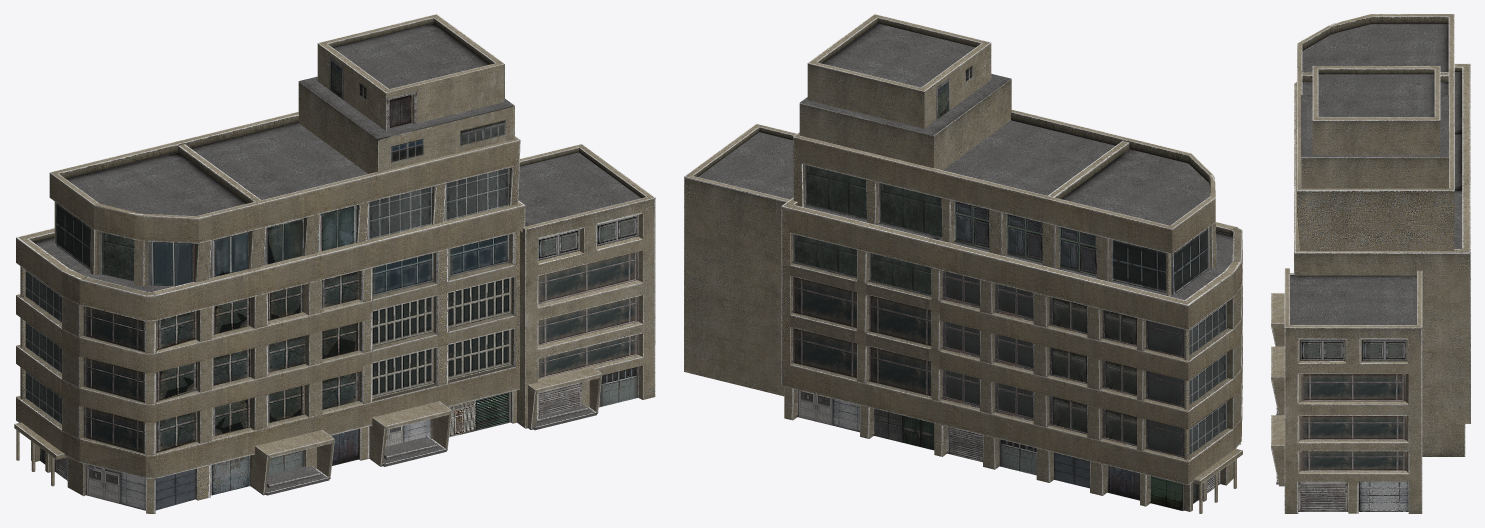
The model's file is buildings_04.FBX.
The picture shows the model from 3 angles, left to right: view 1: azimuth 30°, elevation 25°; view 2: azimuth 150°, elevation 25°; view 3: azimuth 270°, elevation 25°; orthographic projection. The views are drawn at different scales.
Parts seen in each view (by area): view 1: Object008; view 2: Object008; view 3: Object008.
Boxes of the visible parts, x1,y1,x2,y2 form: Object008: [14, 14, 655, 513]; Object008: [684, 14, 1242, 513]; Object008: [1271, 14, 1470, 513].
Size of the model in its own units: 3380 by 1143 by 2096.
Materials: 1 (1 with a texture image).
